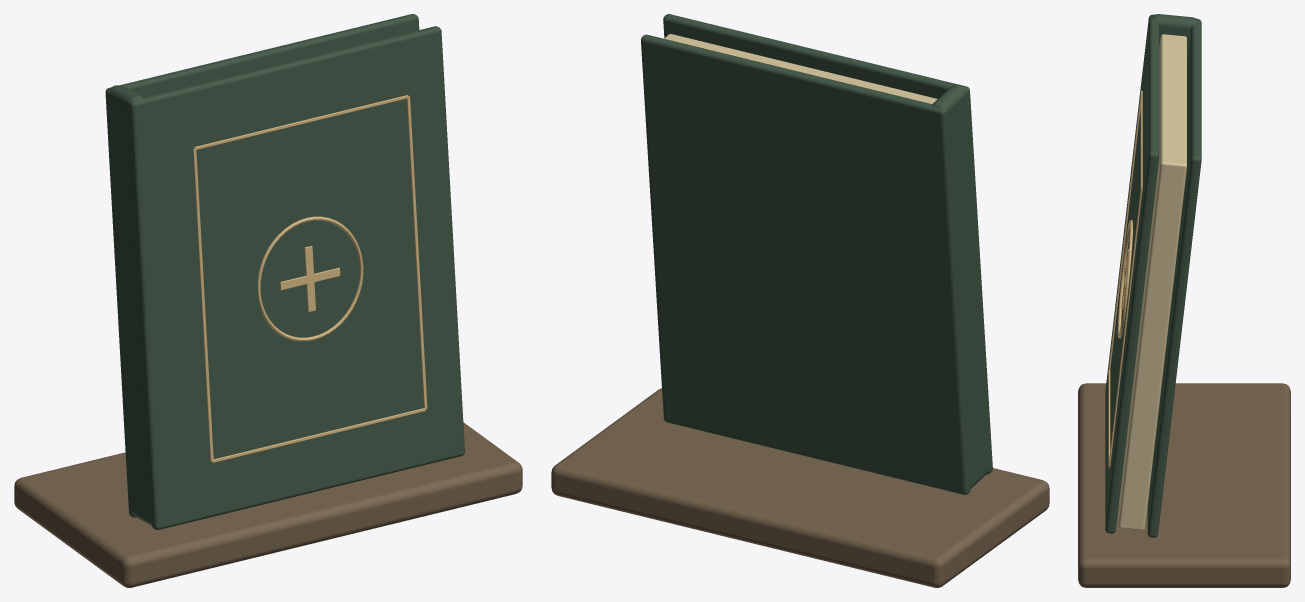
The model's file is 06_Binding_Seal.glb.
The picture shows the model from 3 angles, left to right: view 1: azimuth 30°, elevation 25°; view 2: azimuth 150°, elevation 25°; view 3: azimuth 270°, elevation 25°; orthographic projection. The views are drawn at different scales.
Visible parts, largest first — view 1: Linen board (×2), Bindery stand, Hinged spine, Gilt tooling (×4), Binder’s cartouche; view 2: Linen board (×2), Bindery stand, Hinged spine, Folded blank sheets; view 3: Bindery stand, Linen board (×2), Folded blank sheets, Gilt tooling (×3), Hinged spine, Binder’s cartouche.
Part boxes in pixels (x1,y1,x2,y2): Linen board (×2): (105, 14, 464, 529); Bindery stand: (14, 422, 522, 587); Hinged spine: (108, 85, 151, 525); Gilt tooling (×4): (193, 95, 427, 462); Binder’s cartouche: (257, 216, 363, 341); Linen board (×2): (641, 14, 992, 494); Bindery stand: (551, 388, 1049, 587); Hinged spine: (932, 84, 989, 488); Folded blank sheets: (664, 34, 937, 104); Bindery stand: (1078, 383, 1290, 587); Linen board (×2): (1105, 14, 1201, 537); Folded blank sheets: (1118, 34, 1186, 530); Gilt tooling (×3): (1108, 90, 1142, 466); Hinged spine: (1152, 14, 1198, 61); Binder’s cartouche: (1117, 220, 1132, 338).
Bounding box in the file's own units: 0.161 × 0.1737 × 0.08.
